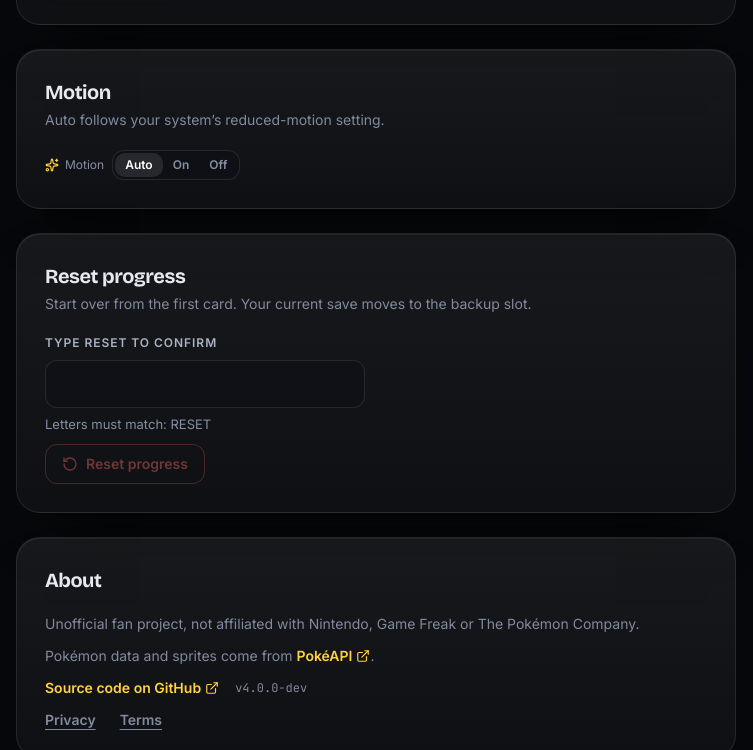
Test: SettingsPage › arms Reset only for exactly "RESET" and starts a fresh save
This screenshot has width=753, height=750.
(page scrolled)
Expected: the button "Reset progress" is enabled, [45, 444, 205, 484]
Type "reset" into the field labelled "Type RESET to confirm".
click(205, 384); type("reset")  # box [60, 361, 350, 407]
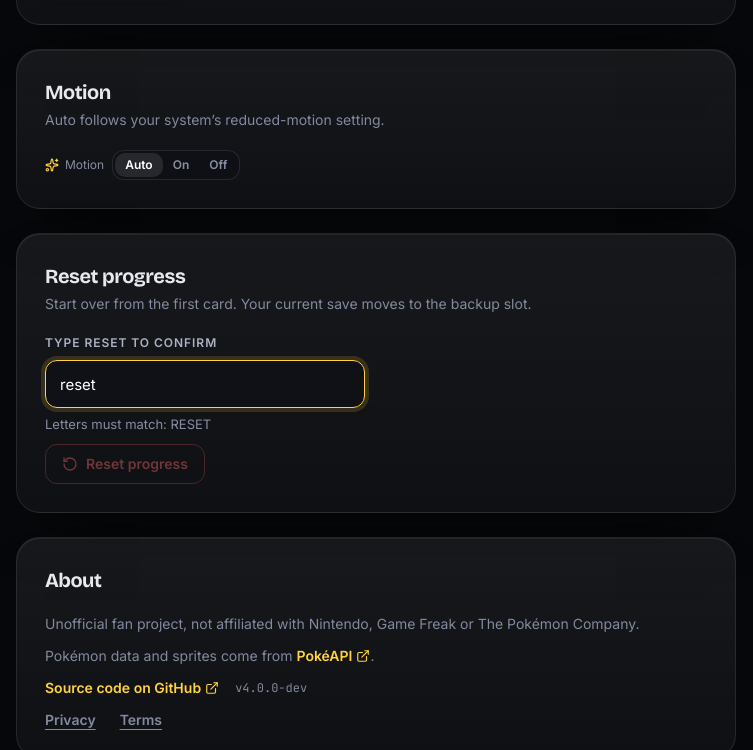
Click the button "Reset progress".
click(125, 464)  # box [45, 444, 205, 484]
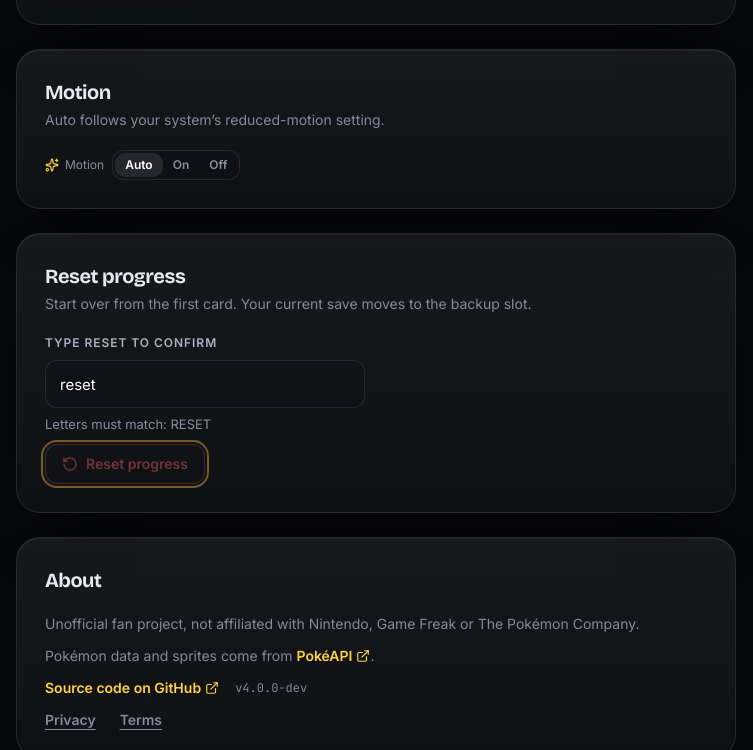
Replace the text in the field labelled "Type RESET to confirm" with "RESET" at (205, 384), box [60, 361, 350, 407]
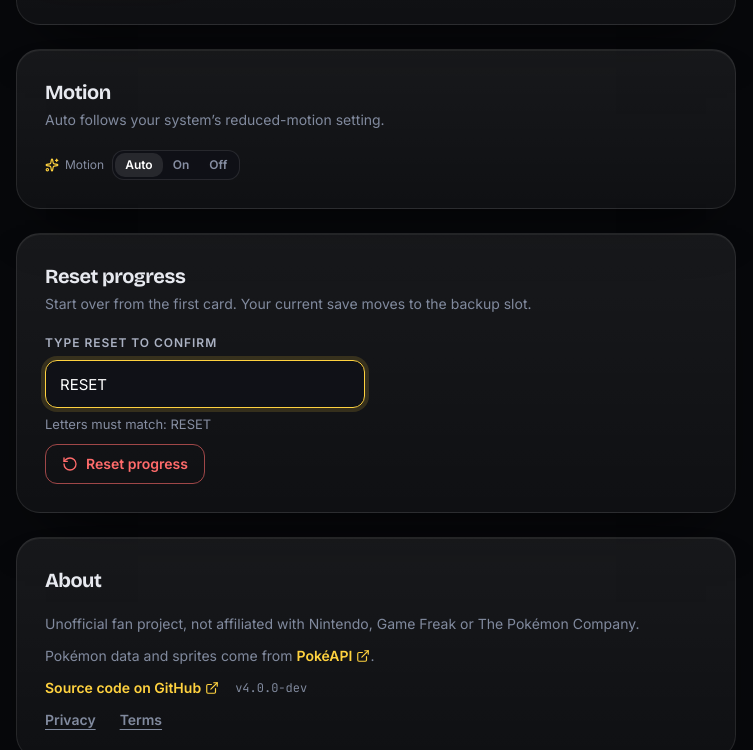
Expected: the button "Reset progress" is enabled
Click the button "Reset progress".
click(125, 464)  # box [45, 444, 205, 484]
(page scrolled)
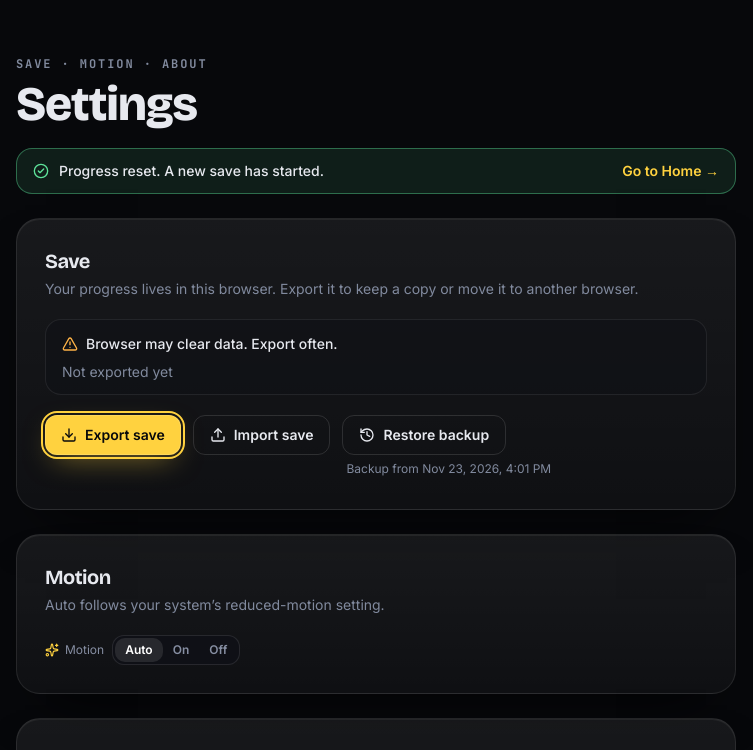
Expected: the message shows "Progress reset", [59, 162, 324, 179]
